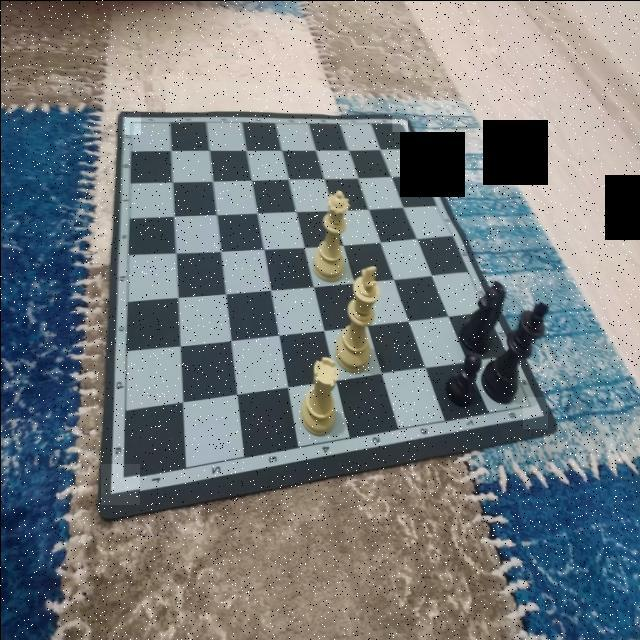chess-table-corners: (100, 464, 139, 506), (522, 396, 547, 428), (118, 112, 140, 134), (391, 115, 406, 131)
